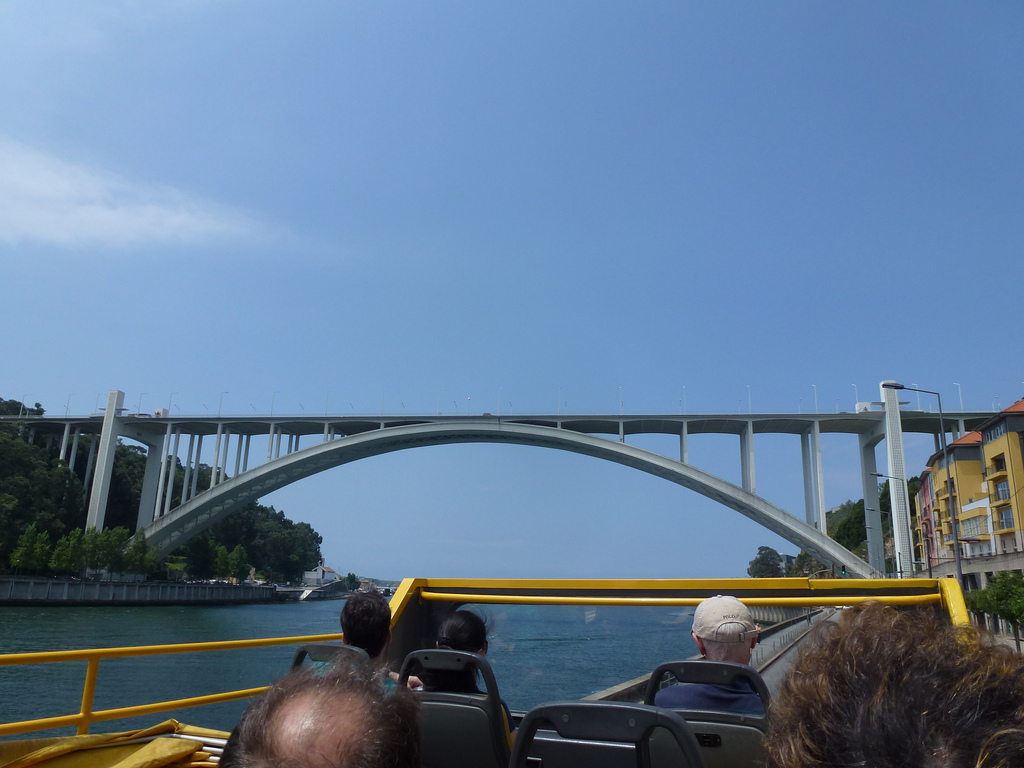arrabida: (0, 376, 1004, 578)
